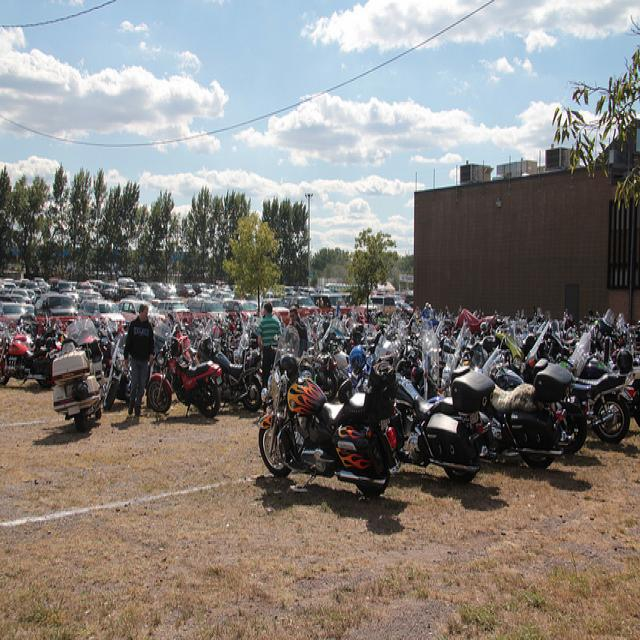motor: (1, 300, 637, 412), (259, 355, 405, 499), (456, 334, 592, 455), (525, 320, 636, 445), (396, 365, 495, 484), (483, 377, 565, 471), (147, 329, 224, 419), (50, 319, 109, 431), (196, 334, 264, 413), (314, 330, 350, 405), (394, 338, 424, 398), (368, 330, 402, 366), (182, 321, 203, 349)
